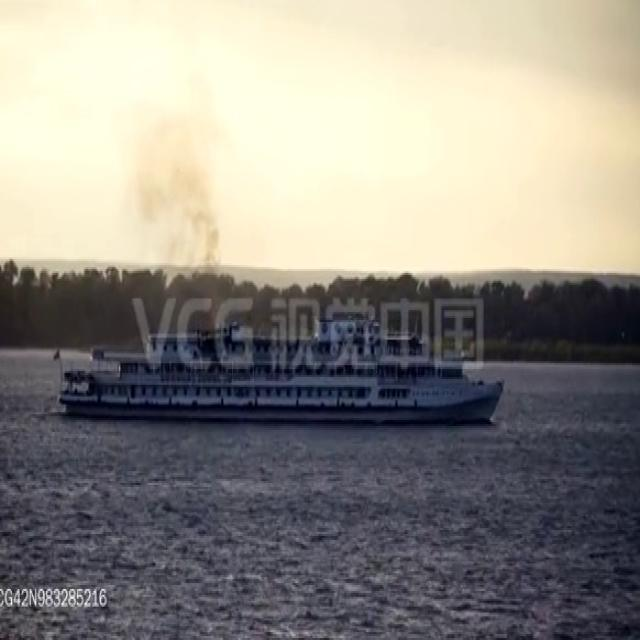passenger ship: (54, 304, 507, 434)
